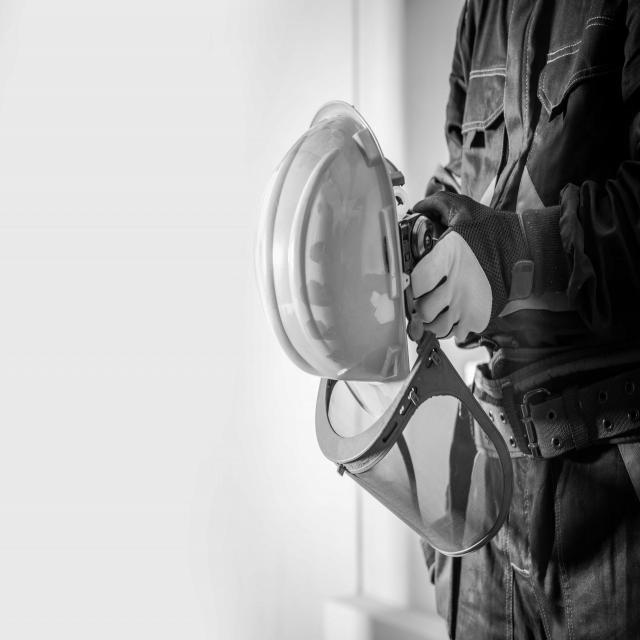safety_helmet: (254, 100, 418, 418)
